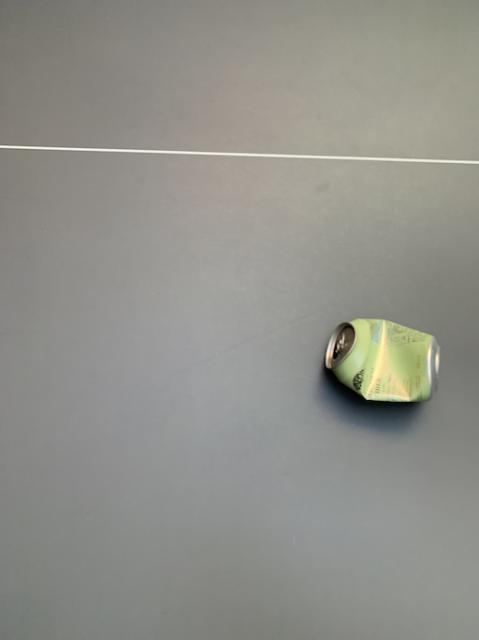metal: (325, 318, 439, 400)
